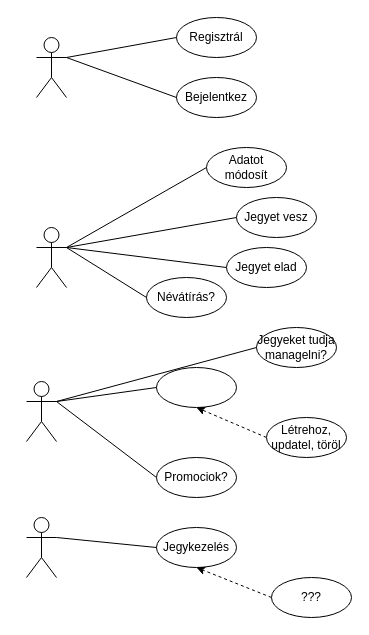
Image size: 369x635. Some labels were removed from this diagram. Each missing label, with the box of its shape:
Anonim: (36, 36, 66, 98)
Eseményt managel: (156, 366, 236, 408)
Felhasználó: (36, 226, 66, 288)
Helyszín: (26, 516, 56, 578)
Rendező: (26, 380, 56, 442)
